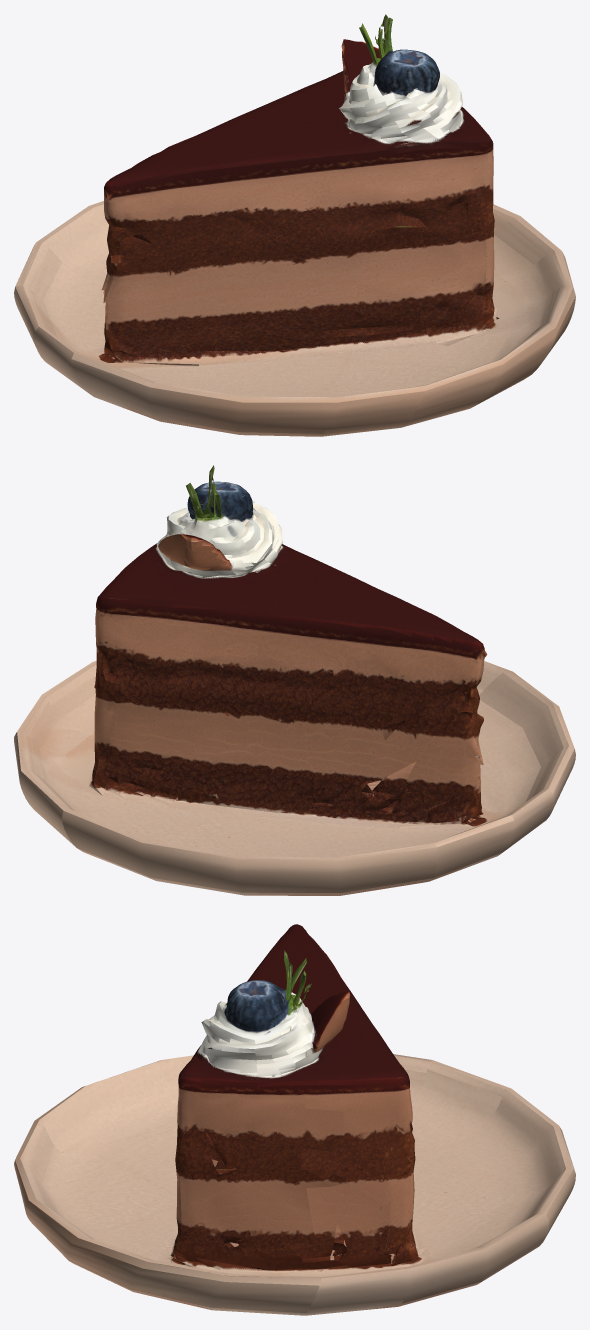
Rendered from espresso-check-dessert.glb.
3 renders of one model, top to bottom at view 1: azimuth 30°, elevation 25°; view 2: azimuth 150°, elevation 25°; view 3: azimuth 270°, elevation 25°, orthographic.
Parts seen in each view (by area): view 1: Mesh0; view 2: Mesh0; view 3: Mesh0.
Boxes of the visible parts, x1=… form: Mesh0: x1=14, y1=14, x2=575, y2=436; Mesh0: x1=14, y1=465, x2=575, y2=895; Mesh0: x1=14, y1=924, x2=575, y2=1315.
Size of the model in its own units: 1.89 by 1.13 by 1.9.
1 material, 1 textured.
